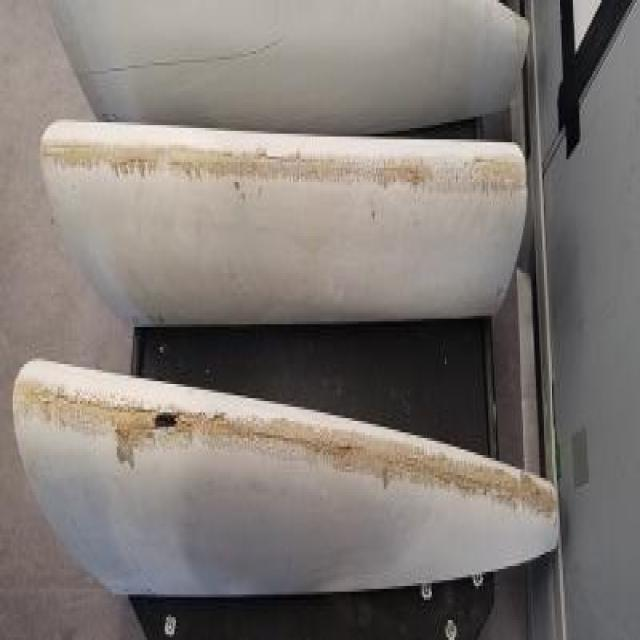Erosion: (21, 356, 544, 528), (59, 123, 524, 192)
